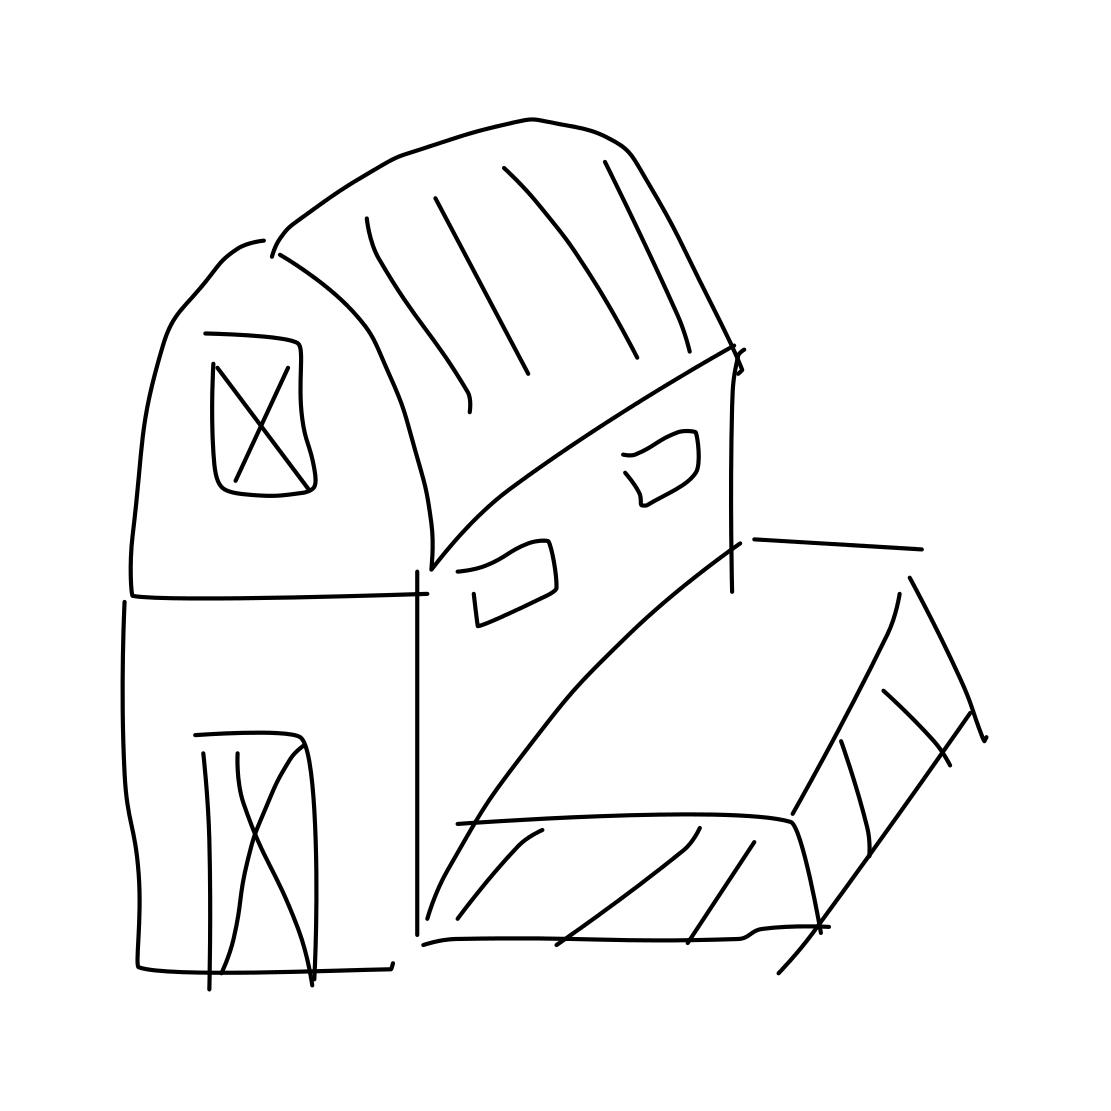House: (64, 100, 997, 990)
